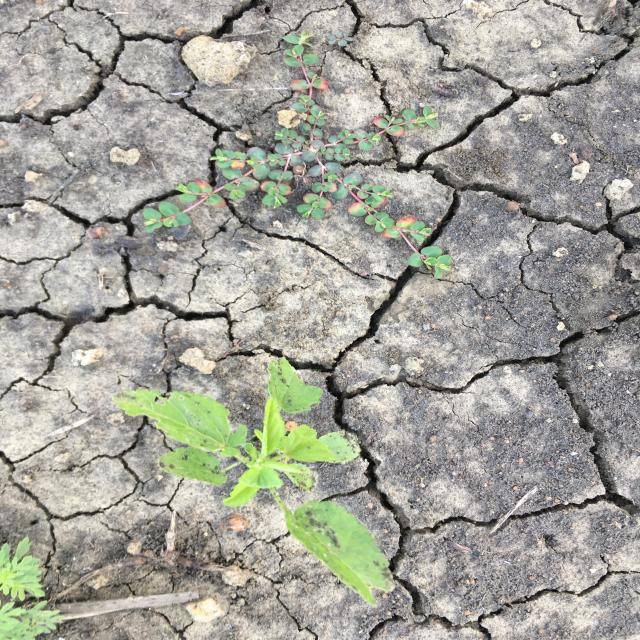PricklySida: (114, 353, 399, 610)
Ragweed: (2, 536, 65, 639)
SpottedSpurge: (141, 29, 458, 283)
